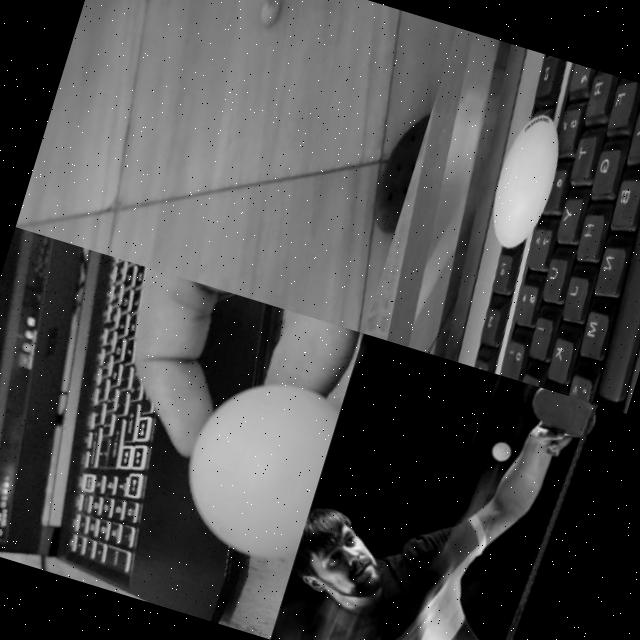ping-pong-ball: (165, 363, 340, 568), (479, 106, 572, 255), (257, 0, 282, 24), (488, 440, 512, 462)
